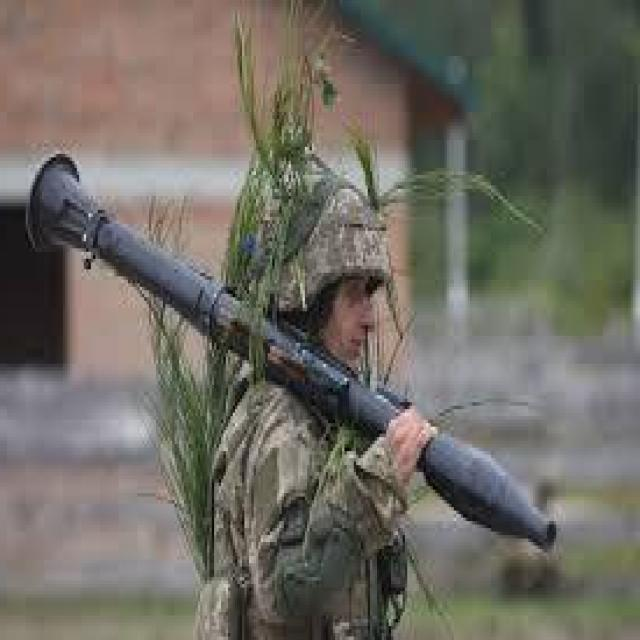rocket: (29, 142, 560, 548)
